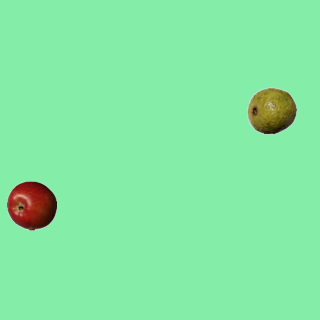Apple Braeburn: (6, 180, 56, 230)
Guava: (246, 85, 296, 135)
